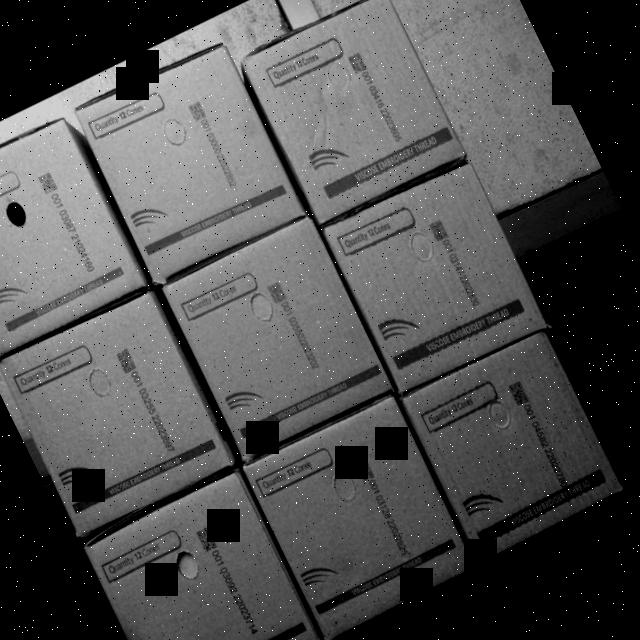box: (156, 211, 398, 463), (238, 387, 479, 640), (0, 285, 236, 536), (73, 36, 304, 285), (318, 154, 550, 396), (397, 322, 625, 562), (236, 0, 471, 232), (75, 467, 325, 640), (0, 110, 145, 360)
